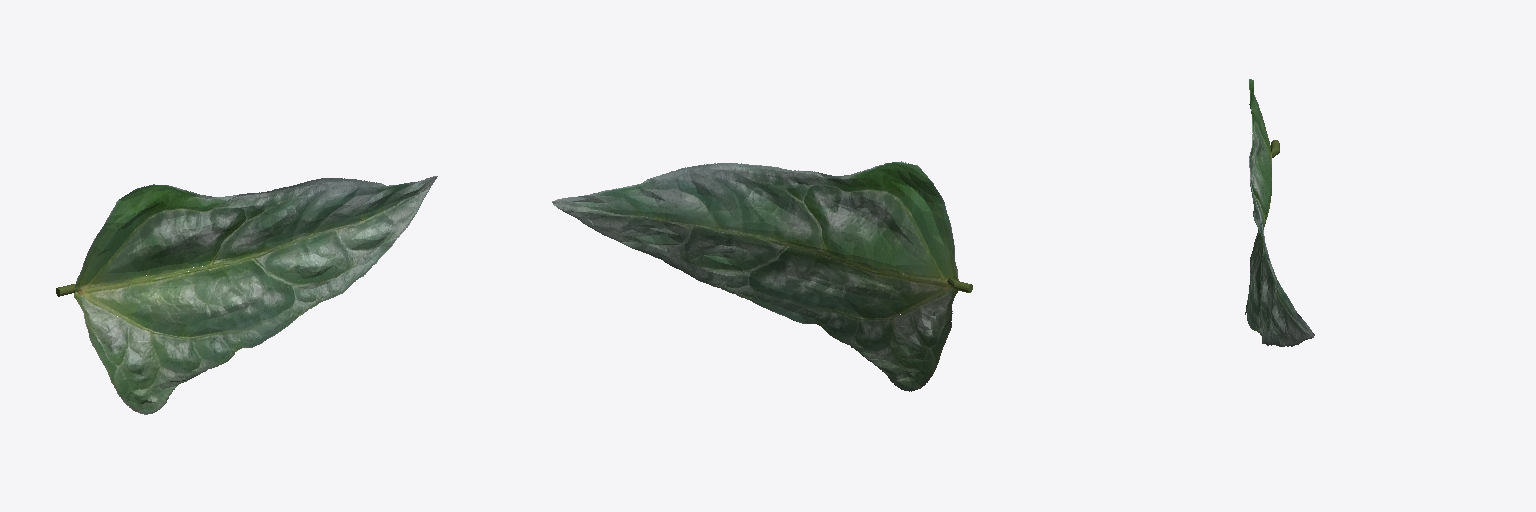
3 renders of one model, left to right at view 1: azimuth 30°, elevation 25°; view 2: azimuth 150°, elevation 25°; view 3: azimuth 270°, elevation 25°, orthographic.
Parts seen in each view (by area): view 1: leaf, veins; view 2: leaf, veins; view 3: leaf.
Boxes of the visible parts, x1,y1,x2,y2 form: leaf: [74, 176, 437, 414]; veins: [74, 212, 224, 330]; leaf: [552, 161, 958, 391]; veins: [816, 193, 957, 319]; leaf: [1245, 79, 1314, 346].
Size of the model in its own units: 1.02 by 0.5753 by 0.1608.
2 materials, 1 textured.